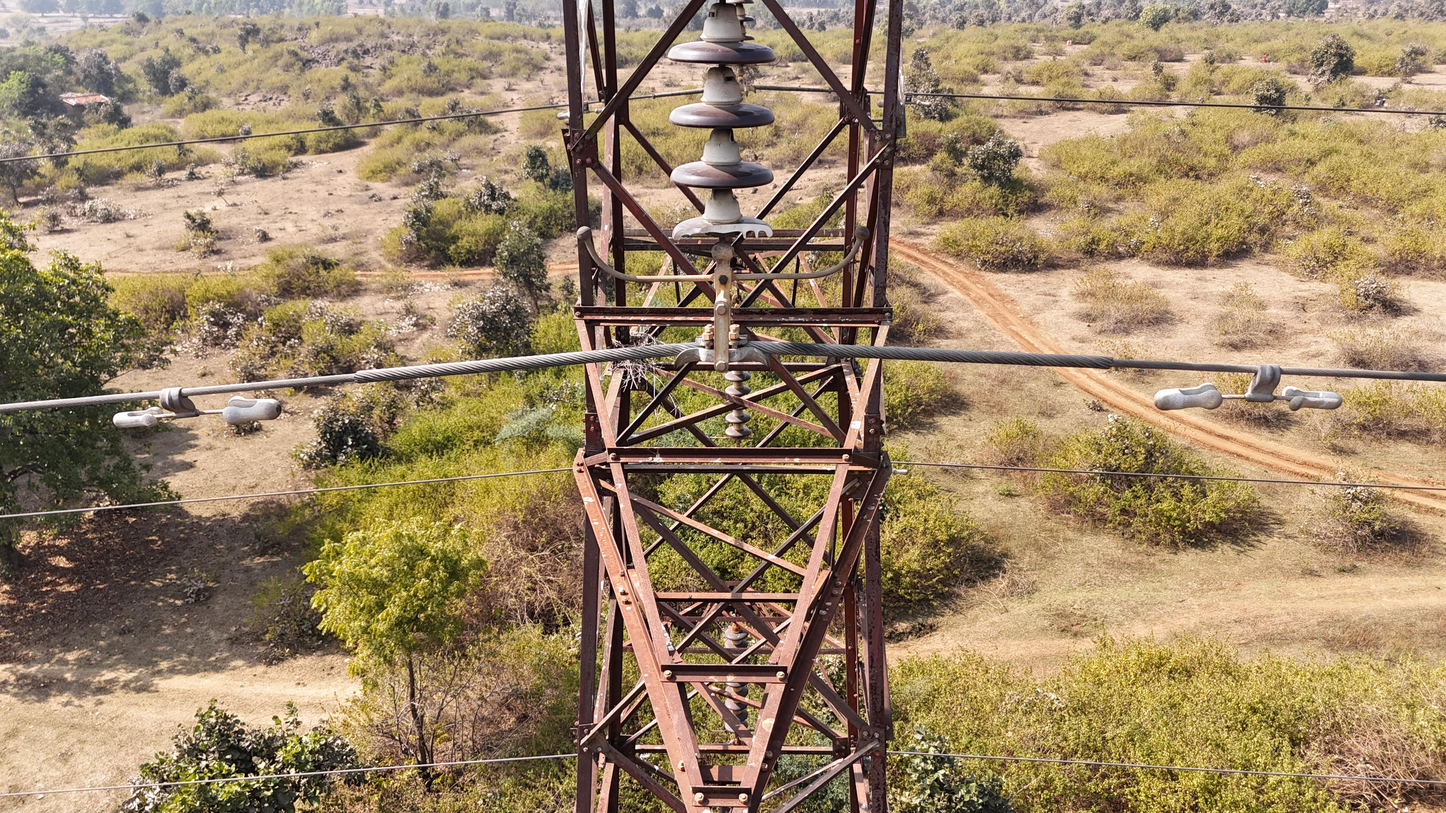broken_insulator: (659, 207, 779, 257)
